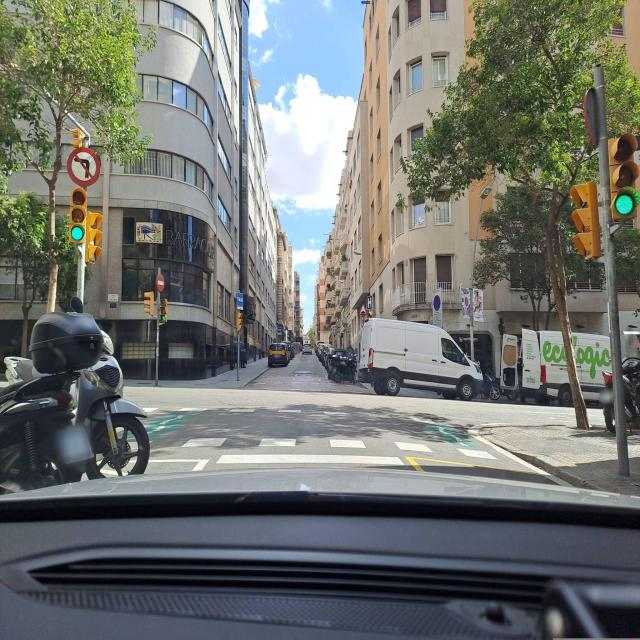bike: (0, 372, 153, 491), (0, 372, 151, 491), (481, 370, 513, 400), (333, 354, 358, 382)
car: (358, 318, 482, 401), (326, 346, 356, 374), (268, 342, 289, 368), (321, 344, 336, 366), (283, 342, 295, 359), (302, 342, 312, 355)
